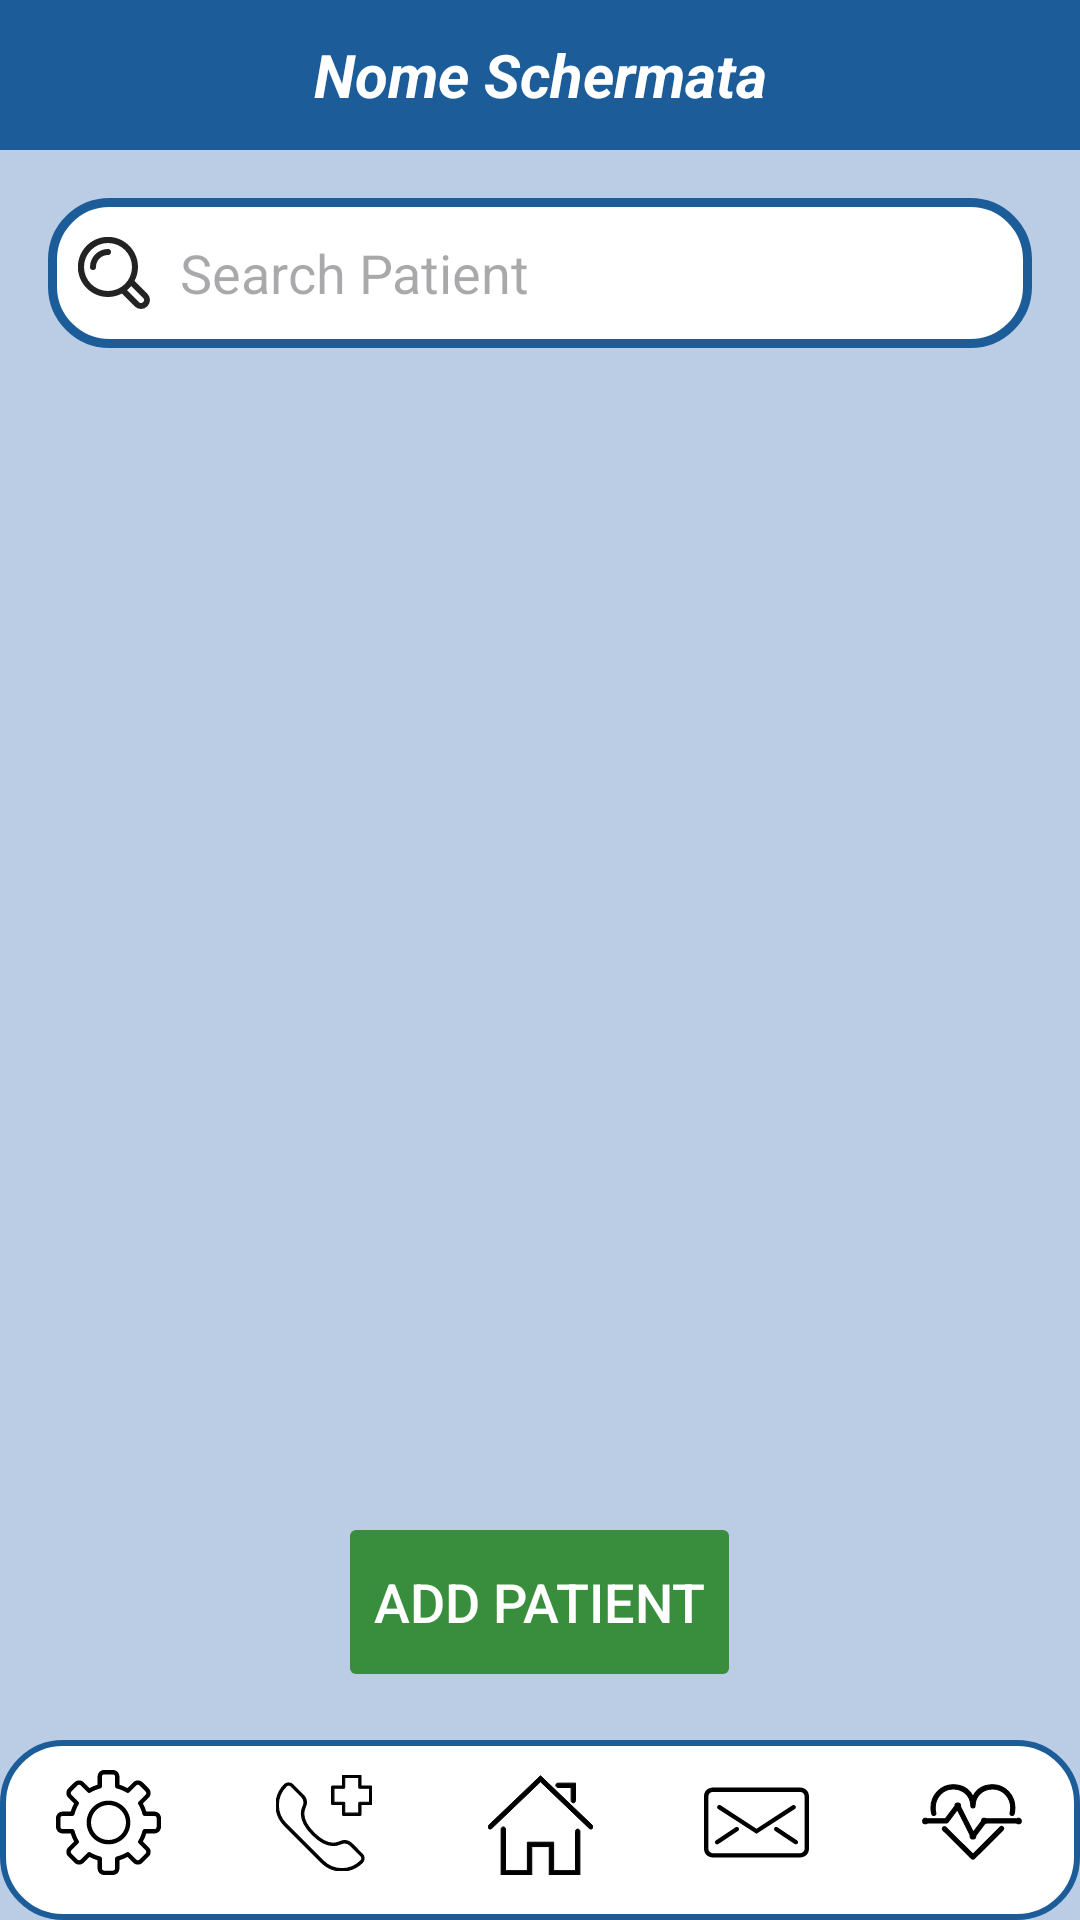

Screen size 1080w x 1920h. Icon name, then its center in pixels as point (x, y):
home: point (540, 1825)
message: point (756, 1822)
misurazioni: point (972, 1822)
setting: point (108, 1822)
sos: point (324, 1823)
